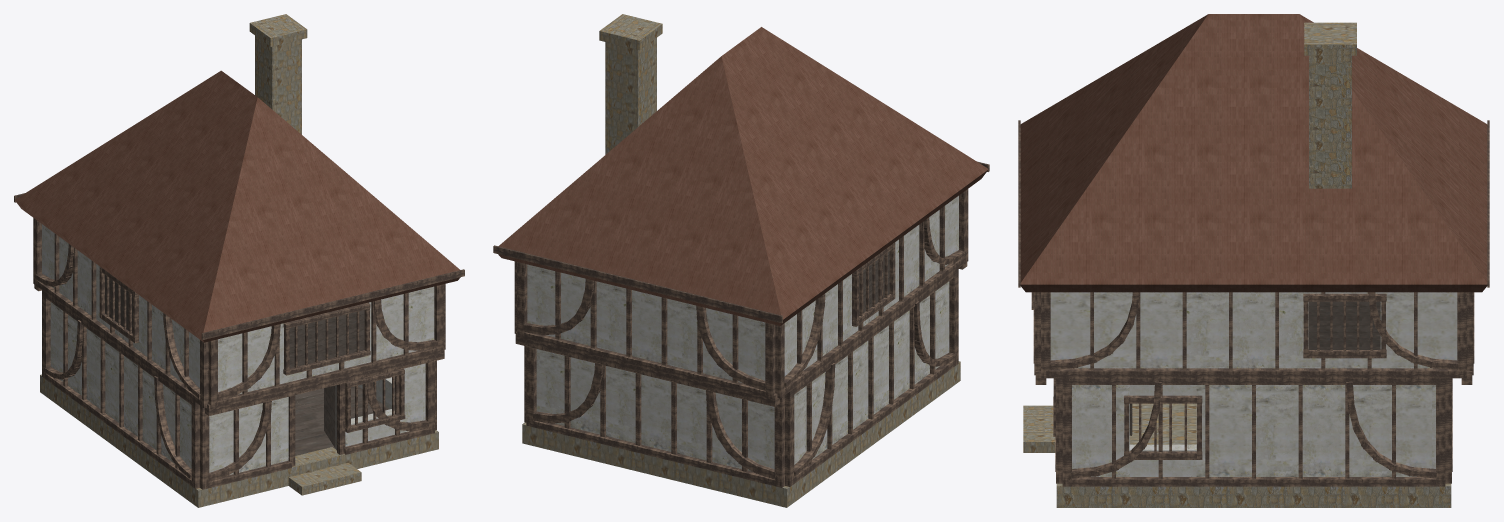
File: prop_tavern_v2.glb
3 renders of one model, left to right at view 1: azimuth 30°, elevation 25°; view 2: azimuth 150°, elevation 25°; view 3: azimuth 270°, elevation 25°, orthographic. The views are drawn at different scales.
Visible parts, largest first — view 1: building_tavern_v2; view 2: building_tavern_v2; view 3: building_tavern_v2.
Boxes of the visible parts, bbox=[...] form: building_tavern_v2: bbox=[14, 14, 464, 507]; building_tavern_v2: bbox=[493, 14, 989, 507]; building_tavern_v2: bbox=[1018, 14, 1489, 507].
Bounding box in the file's own units: 7.9 × 10.23 × 9.85.
5 materials, 5 textured.
